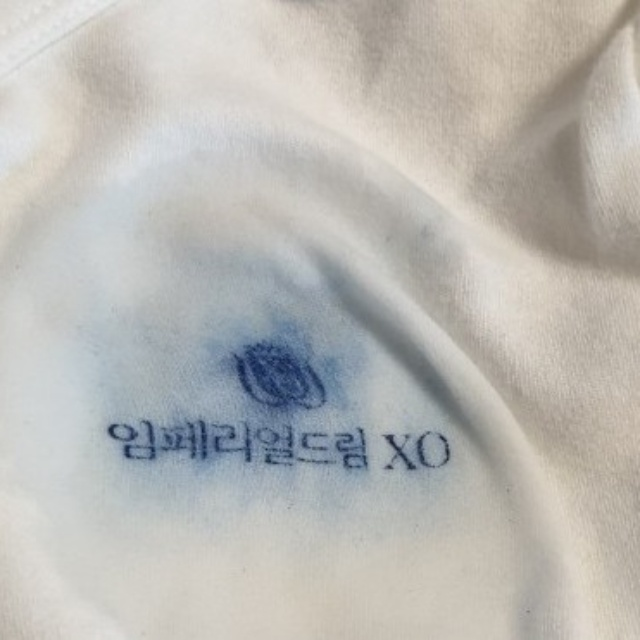ink: (89, 223, 482, 570)
